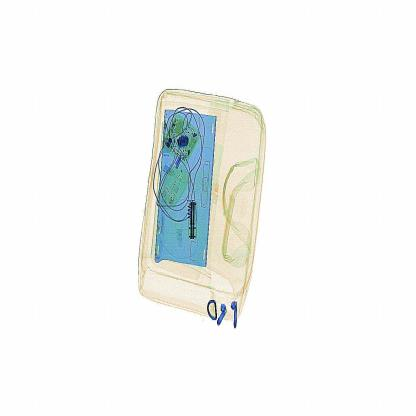scissors: (179, 189, 199, 250)
